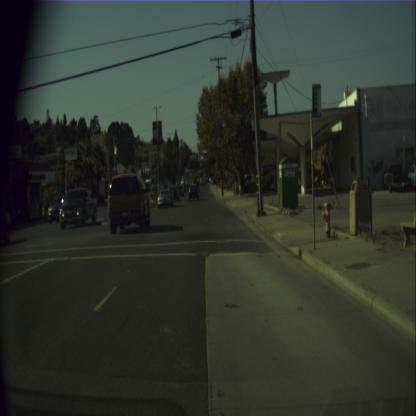Green: (200, 158, 204, 170)
